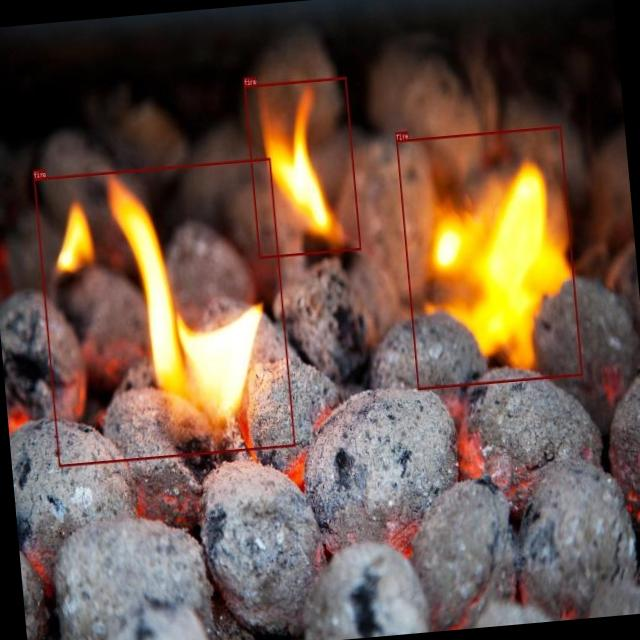fire: (33, 156, 294, 466), (396, 125, 582, 388), (243, 76, 360, 258)
